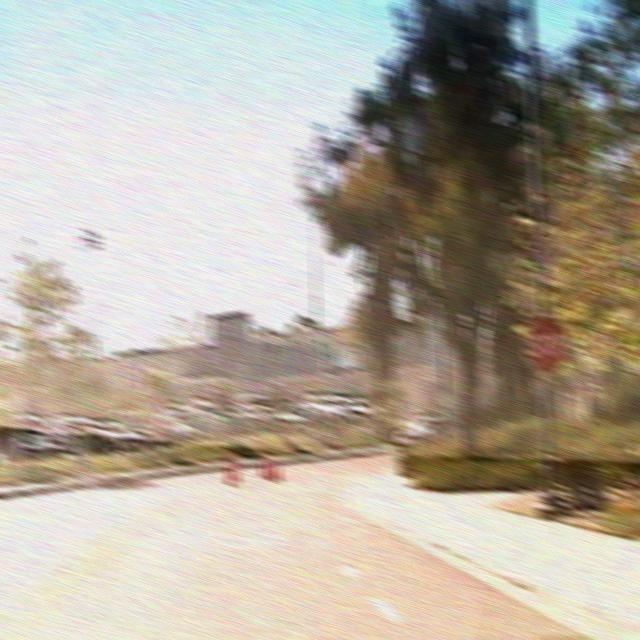stop_sign: (523, 313, 569, 374)
